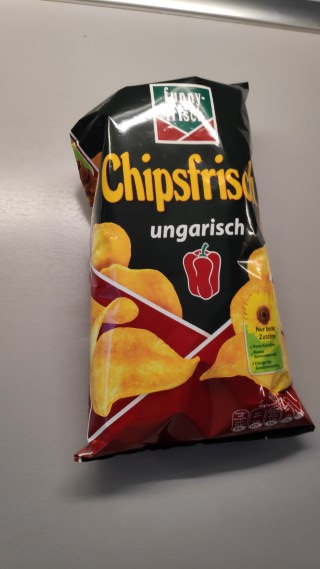chipsfrisch: (71, 74, 320, 463)
